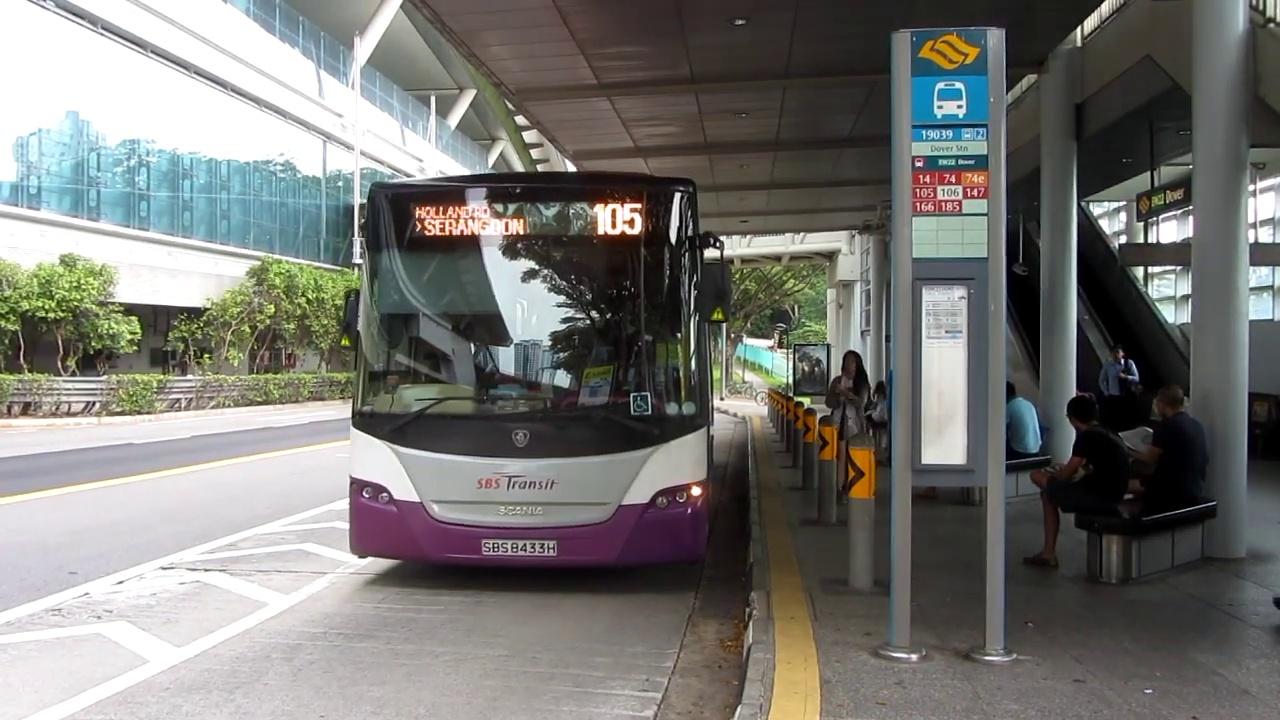bus panel: (410, 202, 655, 237)
